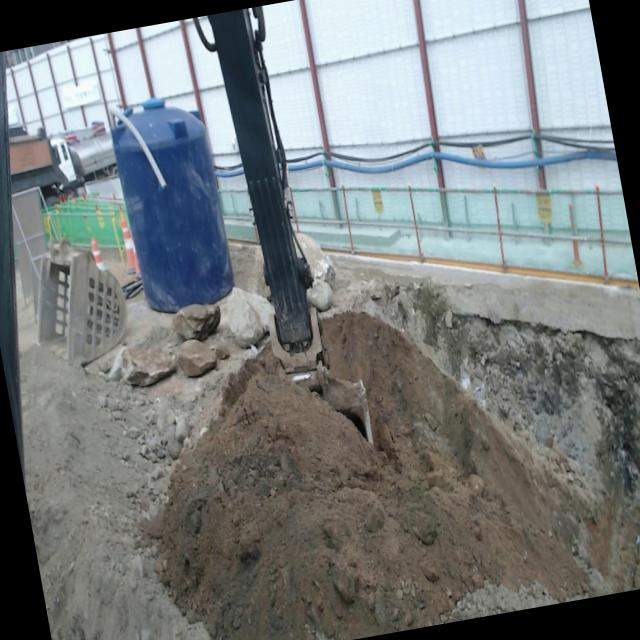stone: (298, 233, 336, 311), (226, 287, 274, 347), (123, 347, 177, 386), (172, 303, 220, 340), (177, 339, 217, 377), (250, 245, 270, 299), (431, 412, 440, 424)
white-sand: (22, 264, 640, 640)
